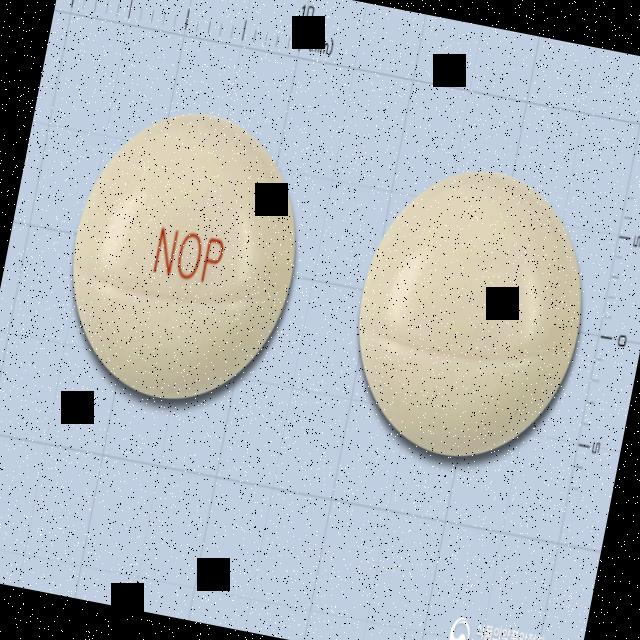Neopol Vaginal Soft Cap: (48, 91, 320, 422)
